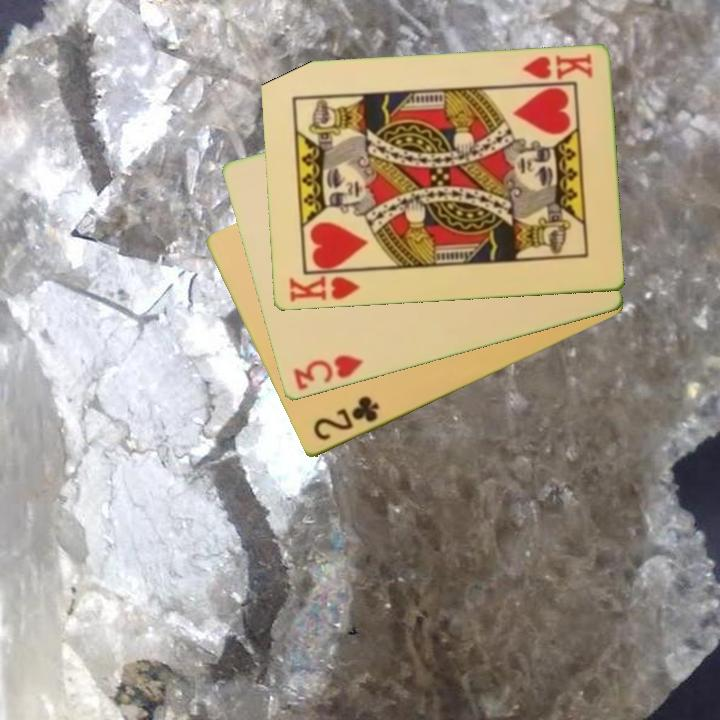2c: (309, 393, 382, 444)
3h: (289, 351, 366, 394)
Kh: (285, 268, 365, 306), (518, 50, 595, 83)
